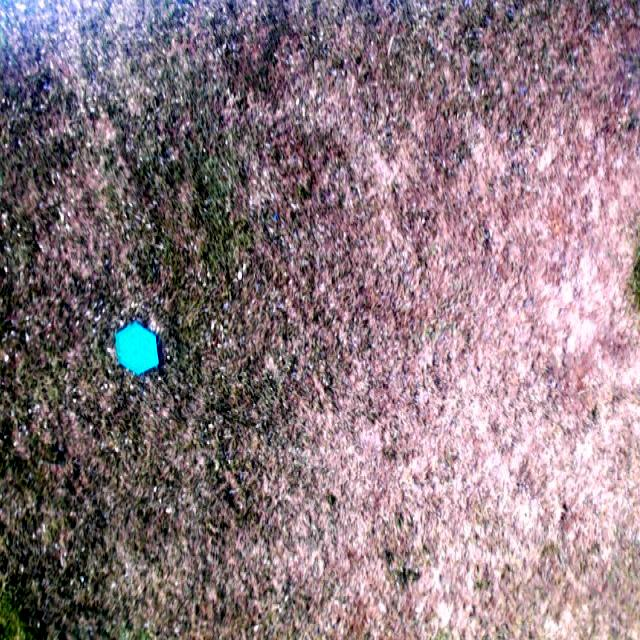blue_hexagon: (116, 319, 160, 379)
